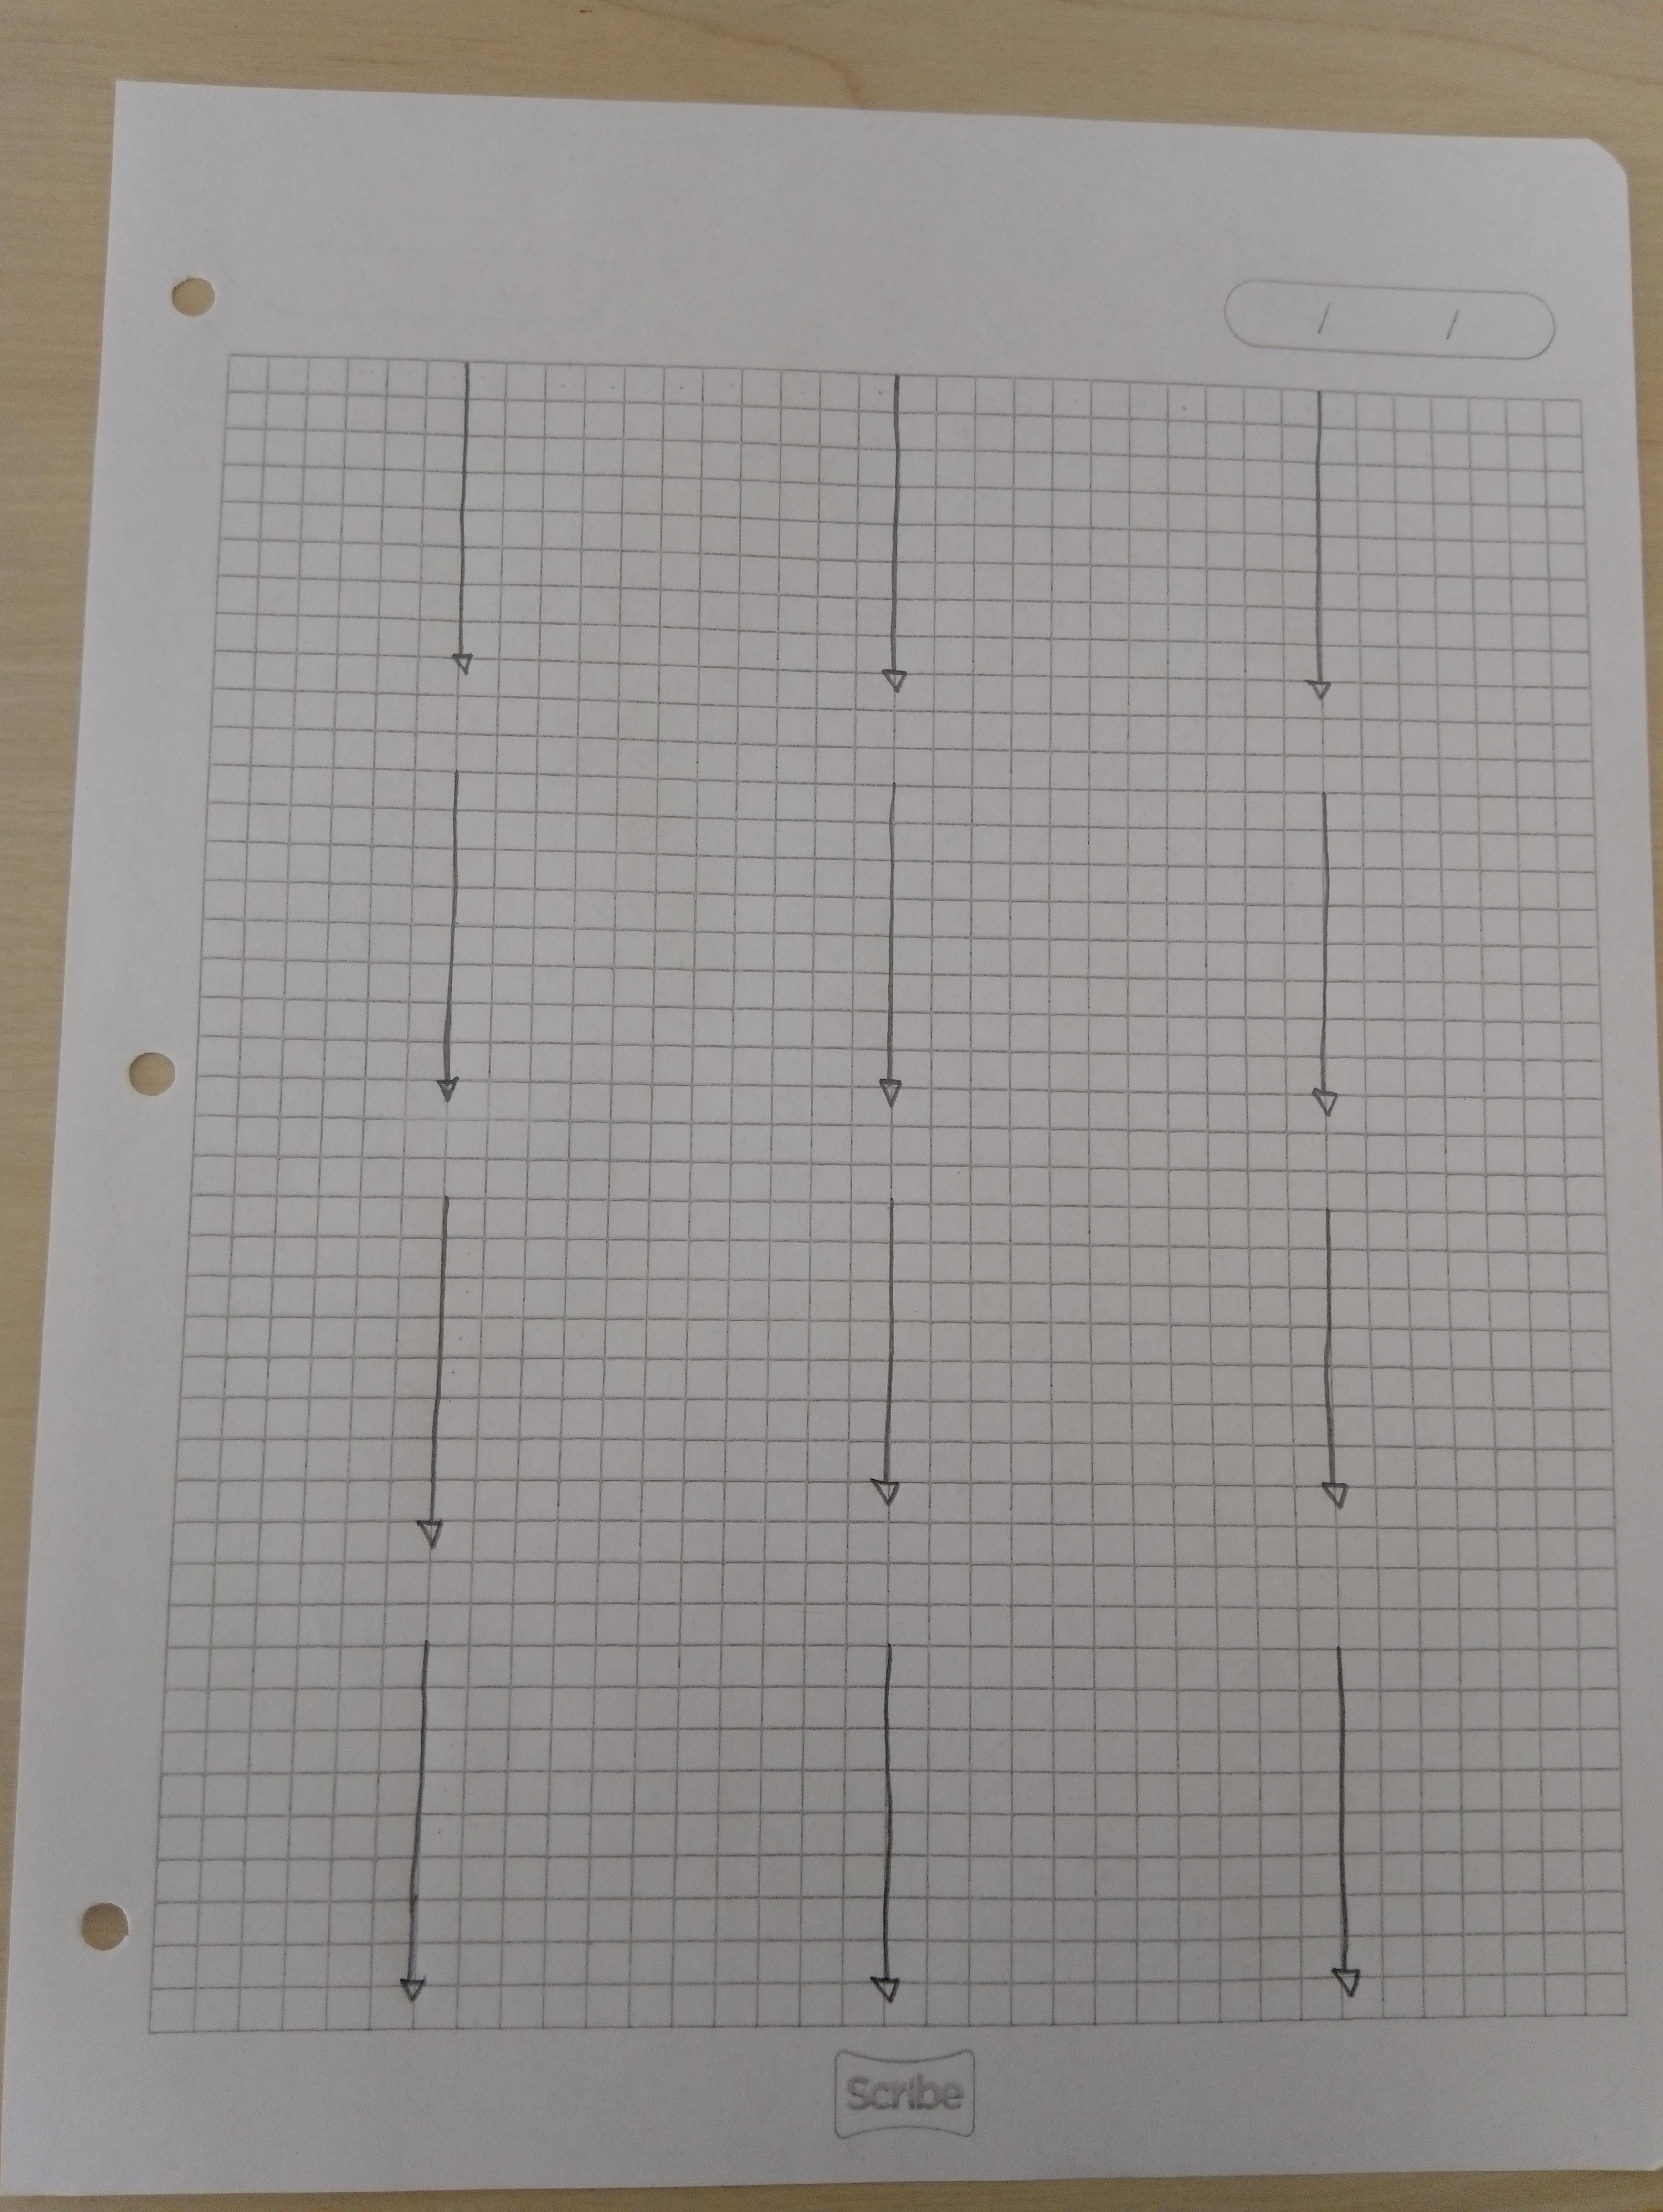arrow_line_down: (833, 1627, 936, 2030), (840, 1205, 957, 1531), (1296, 1634, 1397, 2011), (1287, 1198, 1401, 1531), (379, 1638, 456, 2030), (866, 372, 954, 705), (414, 361, 500, 677), (1284, 787, 1357, 1114), (419, 798, 493, 1107), (1287, 384, 1354, 718), (400, 1201, 459, 1557), (866, 794, 921, 1117)
